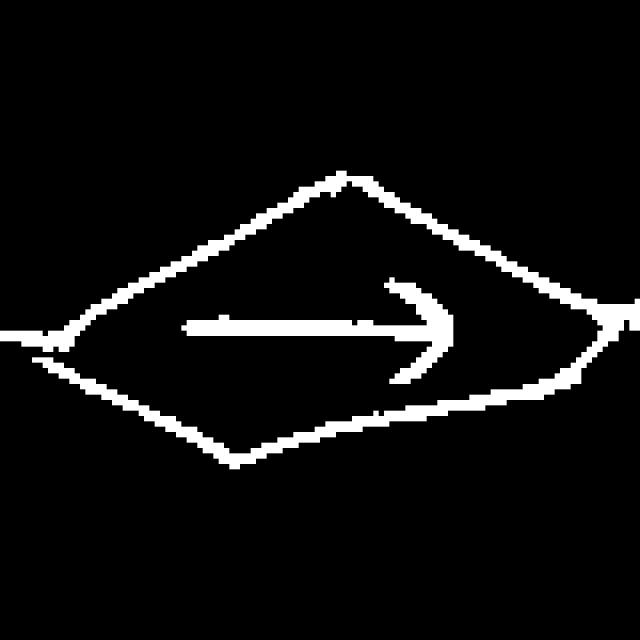dependant_current: (35, 146, 616, 490)
